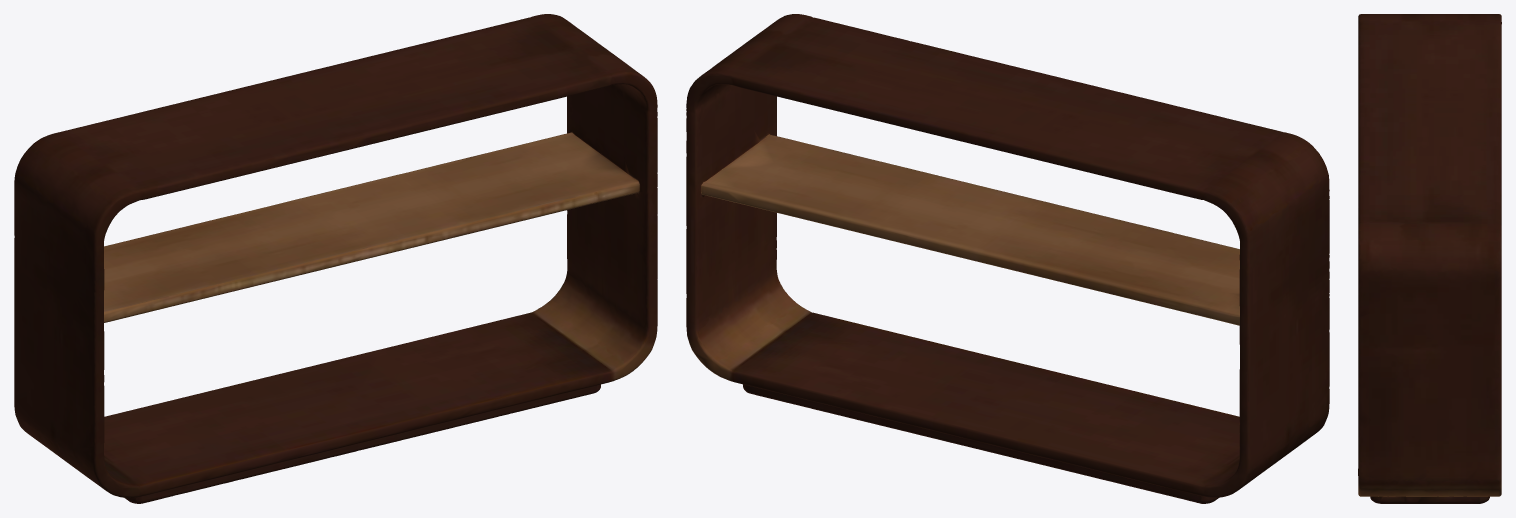
The model's file is m-TK3hay9tHWQ-3ym4B_R.glb.
3 renders of one model, left to right at view 1: azimuth 30°, elevation 25°; view 2: azimuth 150°, elevation 25°; view 3: azimuth 270°, elevation 25°, orthographic. The views are drawn at different scales.
Parts seen in each view (by area): view 1: geometry_0; view 2: geometry_0; view 3: geometry_0.
Boxes of the visible parts, x1,y1,x2,y2 form: geometry_0: (14, 14, 657, 503); geometry_0: (686, 14, 1329, 503); geometry_0: (1358, 14, 1501, 503).
Bounding box in the file's own units: 1 × 0.5488 × 0.2525.
1 material, 1 textured.
